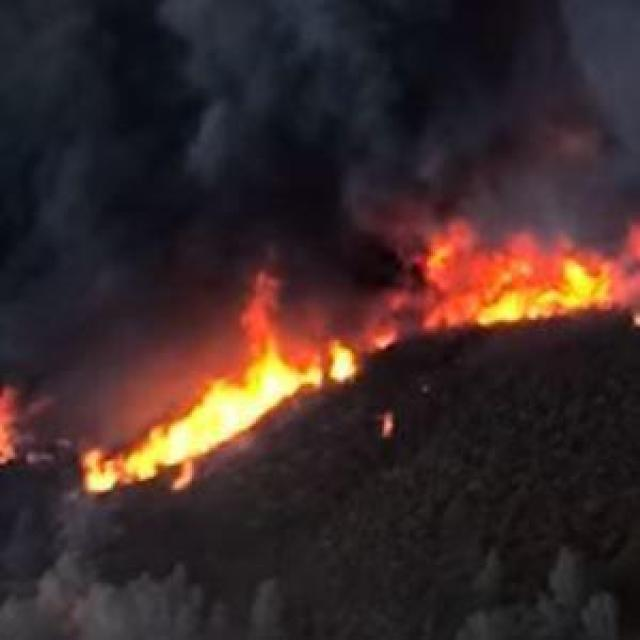Fire: (356, 199, 635, 337), (91, 423, 220, 488), (261, 352, 354, 386), (205, 381, 267, 431)
Smoke: (24, 13, 462, 169), (0, 100, 335, 249)
